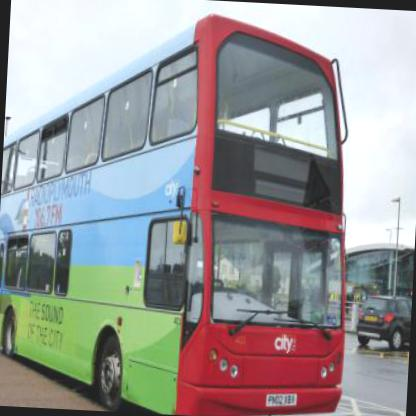bus: (0, 3, 364, 415)
